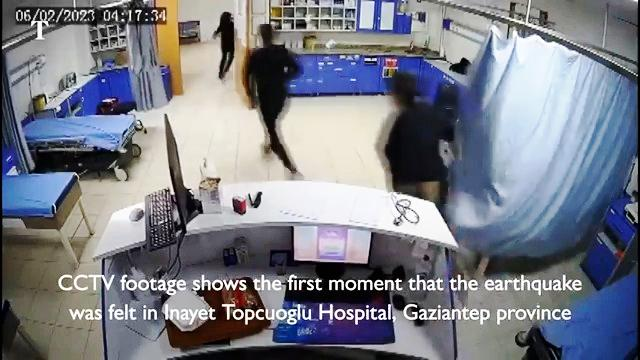berlari: (241, 24, 307, 175), (208, 10, 238, 86)
